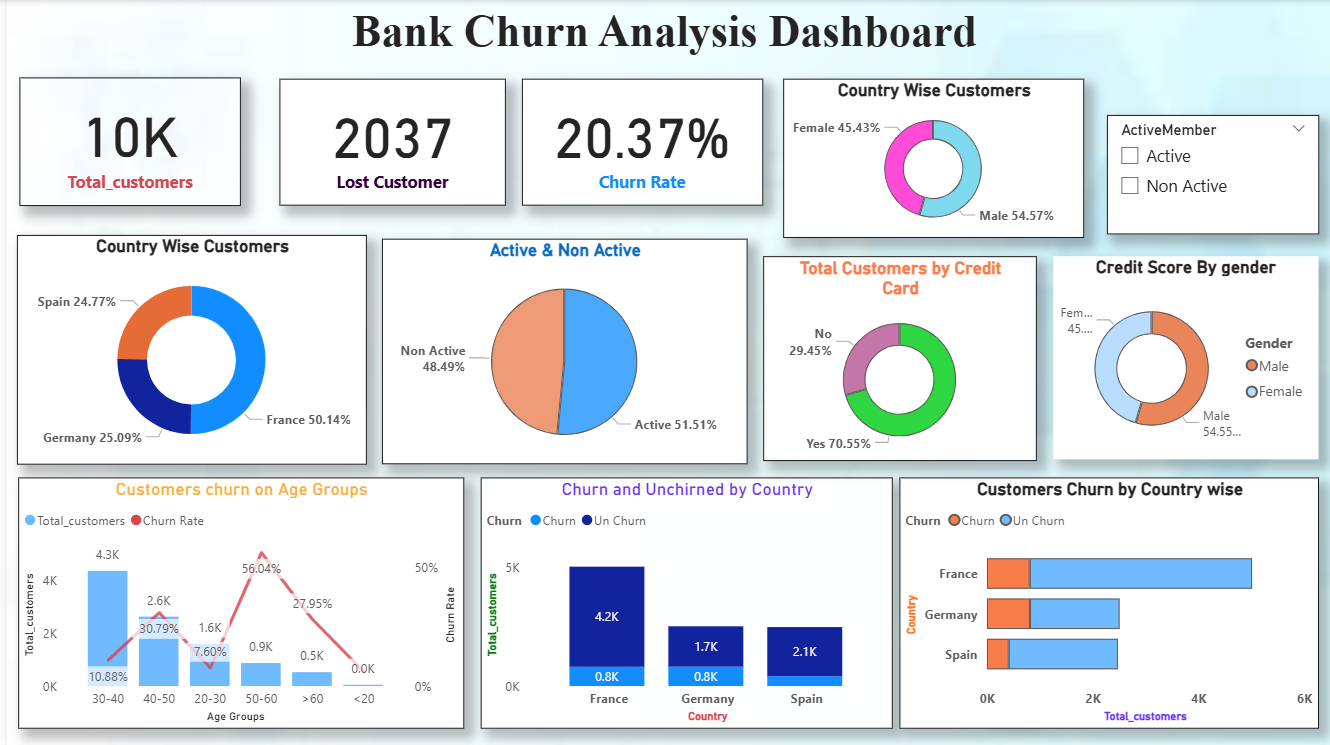

Layout of this report page (visuals, bound fields, positions):
{"tool":"powerbi","page":{"name":"Page 1","canvas":[1280,720],"ordinal":0},"visuals":[{"type":"textbox","box":[0,0,1280,75],"z":0},{"type":"card","fields":{"Values":["Bank_Churn.Total_customers"]},"box":[12.5,75,213.8,123.8],"z":1000},{"type":"card","fields":{"Values":["Bank_Churn.Lost Customer"]},"box":[262.5,76.2,218.8,122.5],"z":2000},{"type":"card","fields":{"Values":["Bank_Churn.Churn Rate"]},"box":[497.5,76.2,232.5,122.5],"z":3000},{"type":"donutChart","title":"Country Wise Customers ","fields":{"Y":["Bank_Churn.Total_customers"],"Category":["Bank_Churn.Country"]},"box":[10,226.2,337.5,221.2],"z":4000},{"type":"pieChart","title":"Active & Non Active ","fields":{"Y":["Bank_Churn.Total_customers"],"Category":["Bank_Churn.ActiveMember"]},"box":[362.5,230,352.5,217.5],"z":5000},{"type":"lineStackedColumnComboChart","title":"Customers churn on Age Groups ","fields":{"Category":["Bank_Churn.Age Bins "],"Y":["Bank_Churn.Total_customers"],"Y2":["Bank_Churn.Churn Rate"]},"box":[11.2,461.2,430,242.5],"z":6000},{"type":"slicer","fields":{"Values":["Bank_Churn.ActiveMember"]},"box":[1061.2,111.2,205,115],"z":7000},{"type":"columnChart","title":"Churn and Unchirned by Country","fields":{"Category":["Bank_Churn.Country"],"Y":["Bank_Churn.Total_customers"],"Series":["Bank_Churn.Churn"]},"box":[457.5,461.2,397.5,242.5],"z":8000},{"type":"barChart","title":"Customers Churn by Country wise ","fields":{"Category":["Bank_Churn.Country"],"Y":["Bank_Churn.Total_customers"],"Series":["Bank_Churn.Churn"]},"box":[861.2,461.2,405,242.5],"z":9000},{"type":"donutChart","title":"Total Customers by Credit Card ","fields":{"Y":["Bank_Churn.Total_customers"],"Category":["Bank_Churn.Credit Card Holder"]},"box":[730,247.5,263.8,197.5],"z":10000},{"type":"donutChart","title":"Country Wise Customers ","fields":{"Y":["Bank_Churn.Total_customers"],"Category":["Bank_Churn.Gender"]},"box":[748.8,76.2,290,153.8],"z":11000},{"type":"donutChart","title":"Credit Score By gender ","fields":{"Y":["Sum(Bank_Churn.CreditScore)"],"Category":["Bank_Churn.Gender"]},"box":[1010,247.5,256.2,196.2],"z":12000}]}

Visuals, with their boxes in screenshot pixels (x1, y1, x2, y2), scaled from the page's 1280x720 canvas onto the 1330x745 screenshot:
textbox: 0/0/1329/78
card - Bank_Churn.Total_customers: 13/78/235/206
card - Bank_Churn.Lost Customer: 273/79/500/206
card - Bank_Churn.Churn Rate: 517/79/759/206
"Country Wise Customers " donutChart: 10/234/361/463
"Active & Non Active " pieChart: 377/238/743/463
"Customers churn on Age Groups " lineStackedColumnComboChart: 12/477/458/728
slicer - Bank_Churn.ActiveMember: 1103/115/1316/234
"Churn and Unchirned by Country" columnChart: 475/477/888/728
"Customers Churn by Country wise " barChart: 895/477/1316/728
"Total Customers by Credit Card " donutChart: 759/256/1033/460
"Country Wise Customers " donutChart: 778/79/1079/238
"Credit Score By gender " donutChart: 1049/256/1316/459
